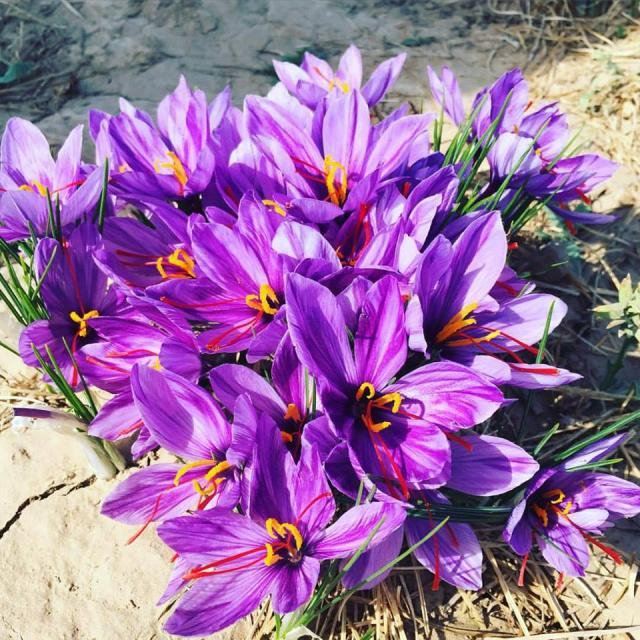Flower: (294, 288, 490, 474), (180, 462, 395, 628), (226, 98, 438, 222), (177, 232, 340, 352), (472, 76, 615, 210), (20, 263, 165, 390), (92, 106, 254, 206), (516, 458, 640, 573), (0, 112, 102, 238), (275, 48, 413, 108)
stigma: (169, 515, 318, 586), (555, 492, 627, 569), (436, 305, 494, 361), (140, 235, 198, 286), (355, 379, 404, 438), (315, 149, 360, 211), (62, 286, 105, 350), (149, 152, 196, 196), (240, 282, 282, 324), (504, 356, 563, 384)
